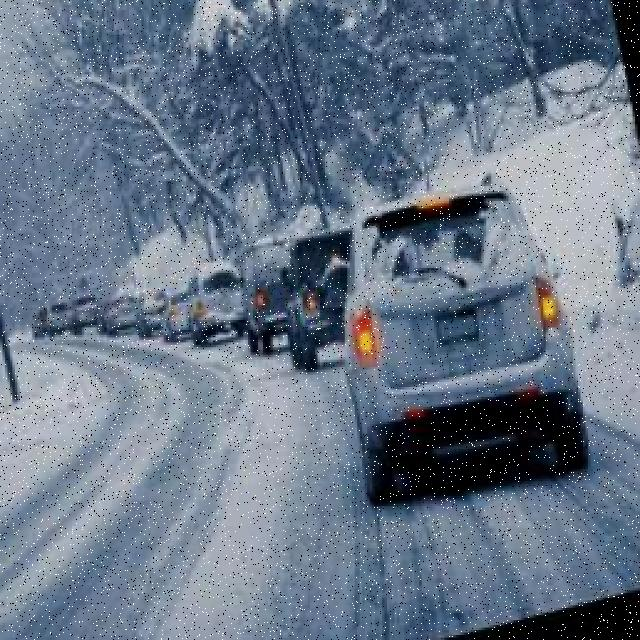ice-road: (0, 338, 640, 640)
